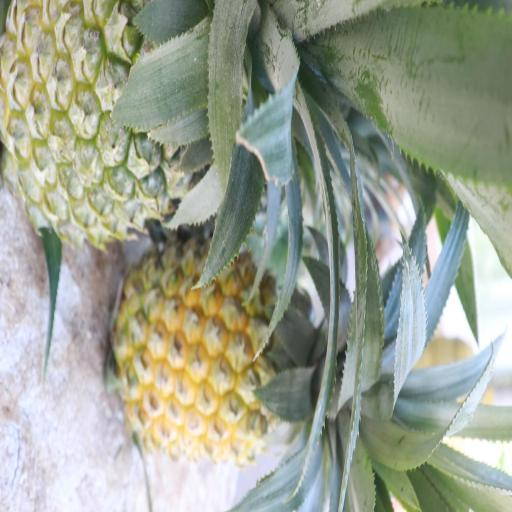------------------------------: (0, 0, 281, 239)
Pineapple - v8 v1: (123, 250, 371, 470)
